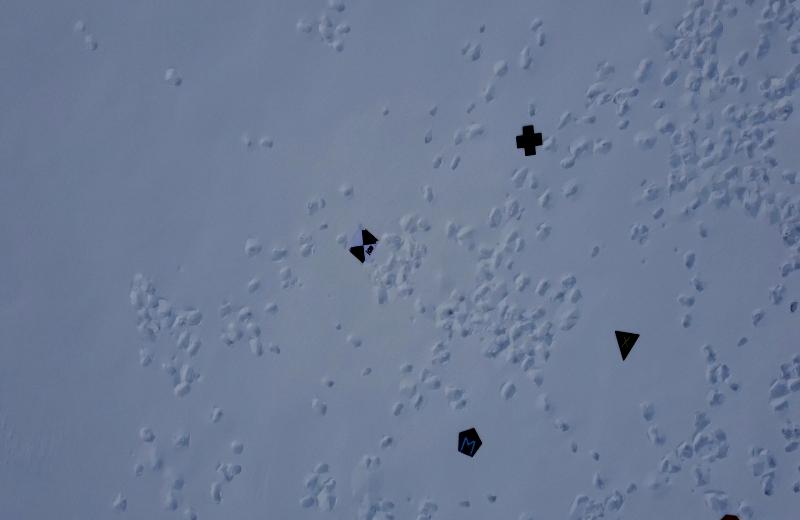Cross: (514, 122, 545, 158)
Pentagon: (453, 423, 485, 459)
Triangle: (607, 320, 642, 361)
